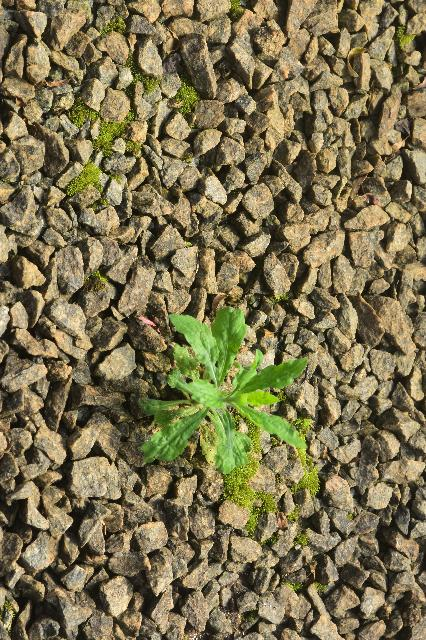MalezaMontesDelPlata: (134, 302, 308, 471)
MusgoMontesDelPlata: (217, 461, 325, 551), (87, 107, 147, 166), (114, 50, 165, 101), (64, 157, 105, 209), (167, 71, 208, 121), (63, 81, 98, 130), (96, 6, 137, 42), (383, 20, 425, 55), (79, 261, 118, 298), (220, 0, 254, 35)
